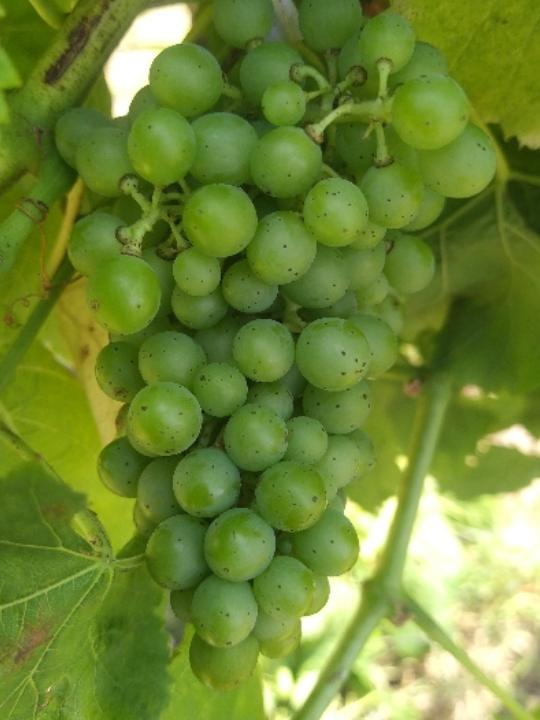grape: (52, 0, 504, 690)
